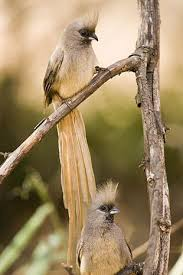target: (36, 10, 98, 232), (82, 177, 133, 275)
